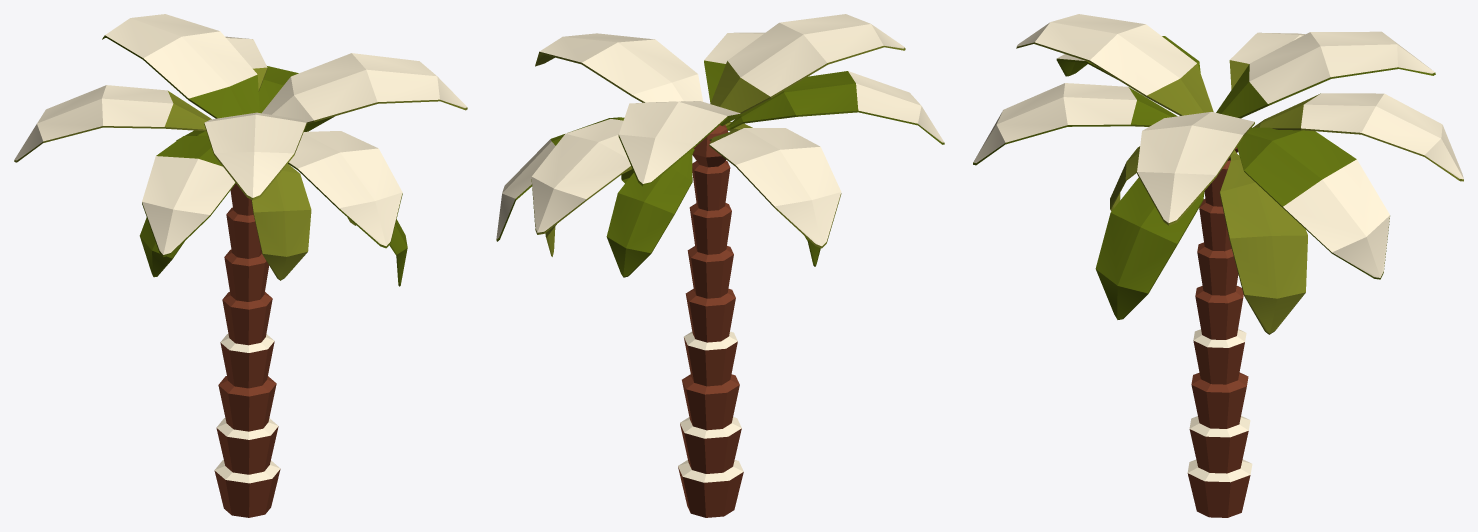
File: Tree_09_Winter.fbx
The picture shows the model from 3 angles, left to right: view 1: azimuth 30°, elevation 25°; view 2: azimuth 150°, elevation 25°; view 3: azimuth 270°, elevation 25°; orthographic projection. The views are drawn at different scales.
Visible parts, largest first — view 1: Tree_09_p2_Winter, Tree_09_p1_Winter; view 2: Tree_09_p2_Winter, Tree_09_p1_Winter; view 3: Tree_09_p2_Winter, Tree_09_p1_Winter.
Boxes of the visible parts, x1,y1,x2,y2 form: Tree_09_p2_Winter: [14, 14, 467, 286]; Tree_09_p1_Winter: [214, 183, 280, 517]; Tree_09_p2_Winter: [496, 14, 944, 277]; Tree_09_p1_Winter: [678, 125, 743, 517]; Tree_09_p2_Winter: [973, 14, 1463, 334]; Tree_09_p1_Winter: [1187, 147, 1252, 517].
Bounding box in the file's own units: 333 × 380 × 373.
